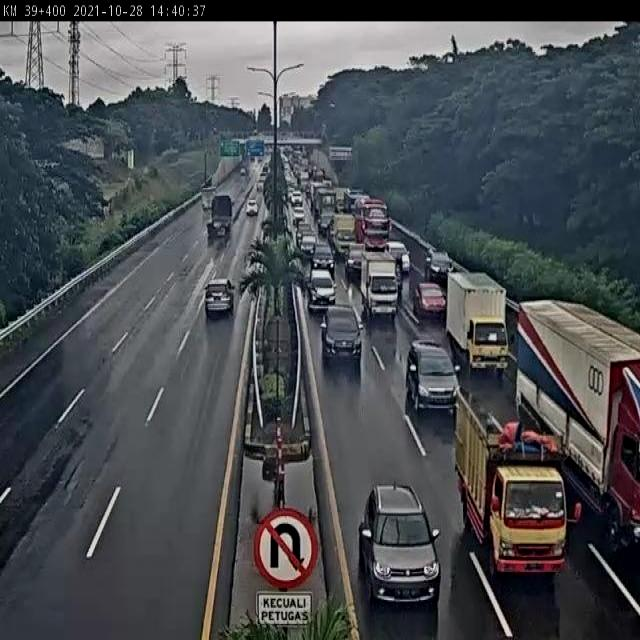Bus: (354, 198, 392, 257)
Car: (357, 482, 441, 606), (404, 341, 460, 426), (320, 302, 362, 361), (203, 274, 237, 320), (308, 269, 337, 315), (414, 282, 446, 318), (425, 249, 454, 284), (311, 241, 335, 274), (345, 242, 365, 280), (245, 198, 258, 219)
Truck: (515, 296, 640, 549), (456, 382, 572, 576), (447, 271, 508, 376), (360, 252, 399, 319), (207, 196, 235, 240), (330, 210, 354, 258), (200, 184, 218, 208)
